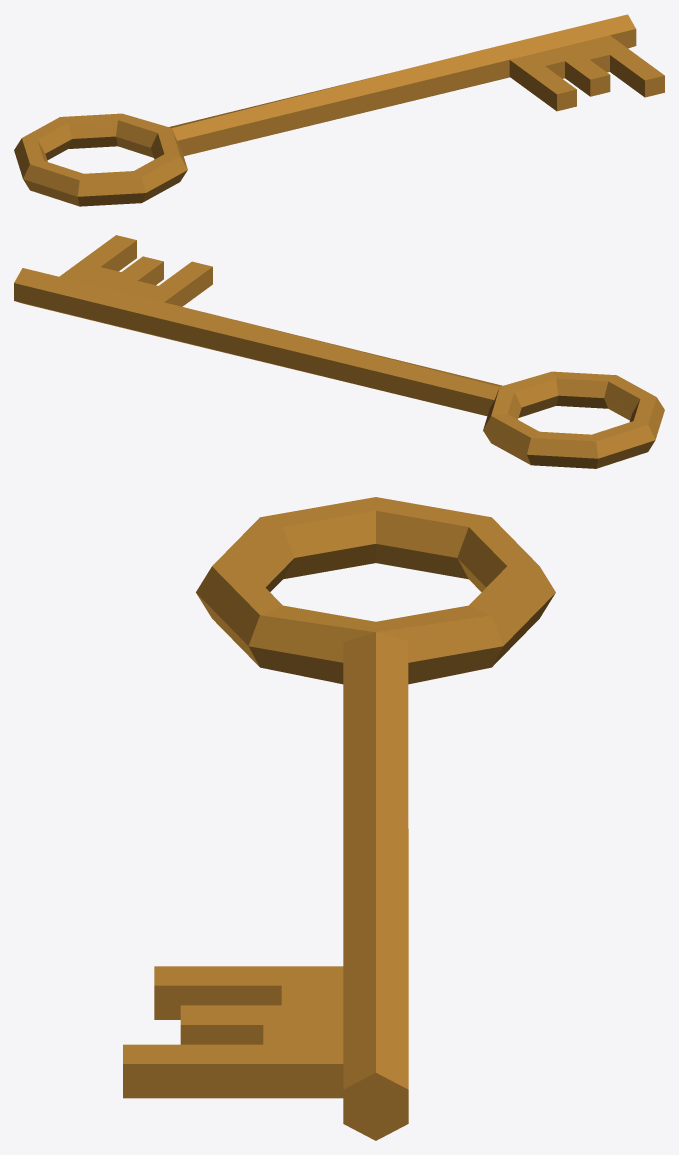
Rendered from Key.fbx.
The picture shows the model from 3 angles, top to bottom: view 1: azimuth 30°, elevation 25°; view 2: azimuth 150°, elevation 25°; view 3: azimuth 270°, elevation 25°; orthographic projection. The views are drawn at different scales.
Visible parts, largest first — view 1: Key; view 2: Key; view 3: Key.
Part boxes in pixels (x1,y1,x2,y2): Key: [14, 14, 664, 206]; Key: [14, 235, 664, 468]; Key: [123, 497, 555, 1140].
Size of the model in its own units: 0.251 by 0.0136 by 0.0778.
